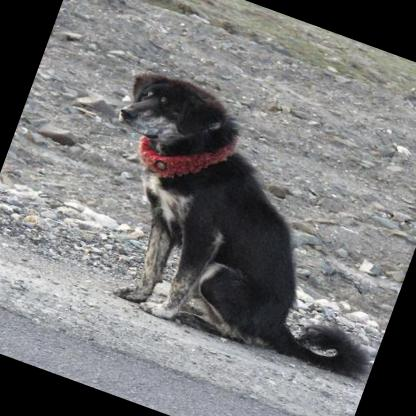Tibetan_mastiff: (53, 58, 416, 393)
